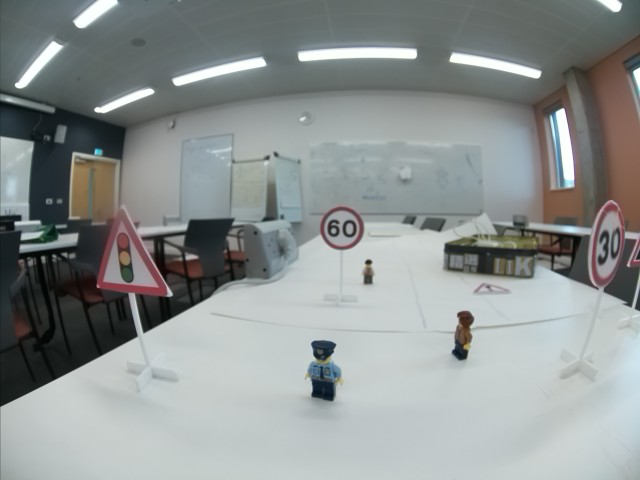30mph: (587, 201, 628, 287)
60mph: (320, 205, 366, 250)
Lego Man: (305, 340, 344, 400), (450, 308, 478, 362), (358, 257, 378, 284)
Traffic lights: (96, 209, 171, 296)
Warning: (472, 280, 512, 296)
